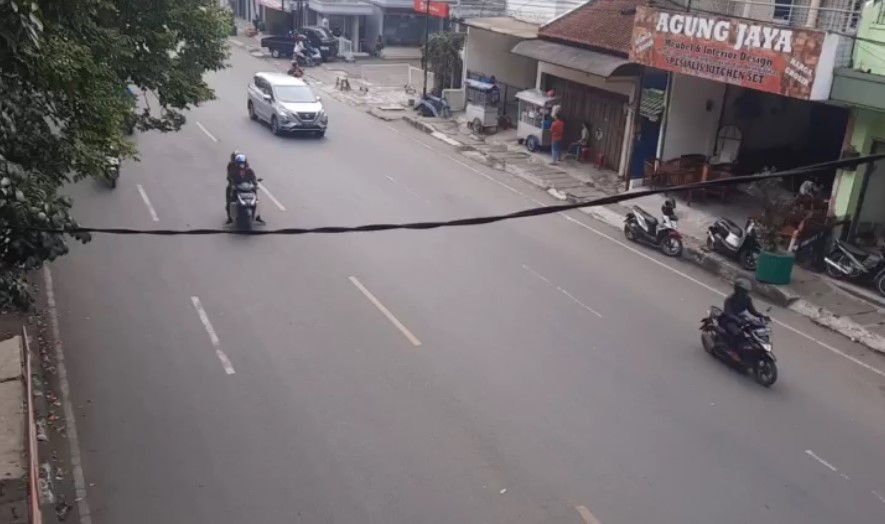mobil: (252, 69, 321, 137)
motor: (704, 278, 788, 392), (220, 155, 268, 234)
